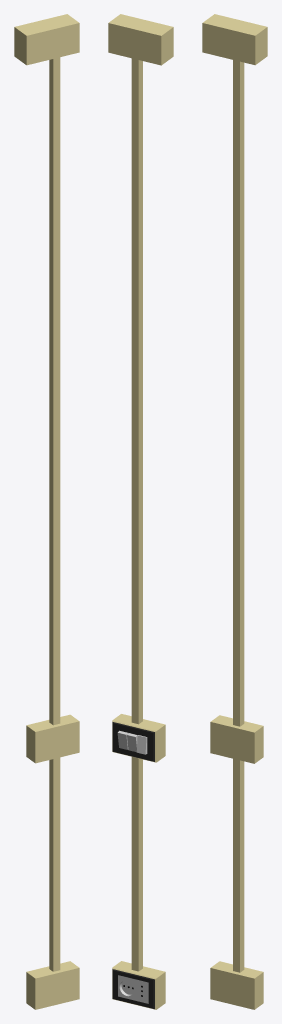
Rendered from paretefinestrataaddon.gltf.
The picture shows the model from 3 angles, left to right: view 1: azimuth 30°, elevation 25°; view 2: azimuth 150°, elevation 25°; view 3: azimuth 330°, elevation 25°; orthographic projection.
Parts seen in each view (by area): view 1: Porta Parete Estrusione Laterale, Porta Parete Estrusione Alta, Porta Prese Basse, Porta Cassetta Tasti; view 2: Porta Parete Estrusione Laterale, Porta Parete Estrusione Alta, Porta Prese Basse, Porta Cassetta Tasti, Porta Cassetta Tasti Pulsante 3; view 3: Porta Parete Estrusione Laterale, Porta Parete Estrusione Alta, Porta Prese Basse, Porta Cassetta Tasti.
Boxes of the visible parts, box(x1,y1,x2,y2) form: Porta Parete Estrusione Laterale: box(49, 57, 60, 971); Porta Parete Estrusione Alta: box(14, 14, 79, 65); Porta Prese Basse: box(26, 961, 79, 1009); Porta Cassetta Tasti: box(26, 714, 79, 763); Porta Parete Estrusione Laterale: box(131, 58, 142, 971); Porta Parete Estrusione Alta: box(108, 14, 173, 65); Porta Prese Basse: box(112, 961, 165, 1009); Porta Cassetta Tasti: box(112, 714, 165, 762); Porta Cassetta Tasti Pulsante 3: box(136, 735, 147, 754); Porta Parete Estrusione Laterale: box(233, 60, 244, 972); Porta Parete Estrusione Alta: box(202, 14, 267, 65); Porta Prese Basse: box(210, 961, 263, 1009); Porta Cassetta Tasti: box(210, 715, 263, 763).
Size of the model in its own units: 0.15 by 2.64 by 0.0618.
